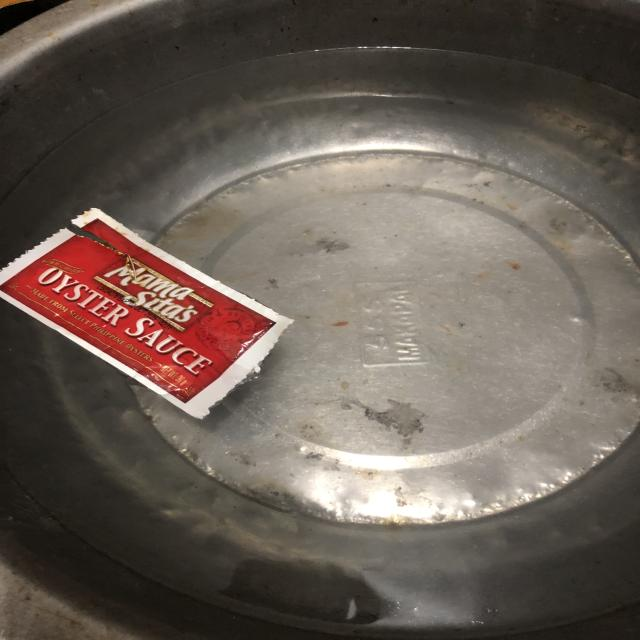Plastic Wrapper: (0, 208, 314, 412)
